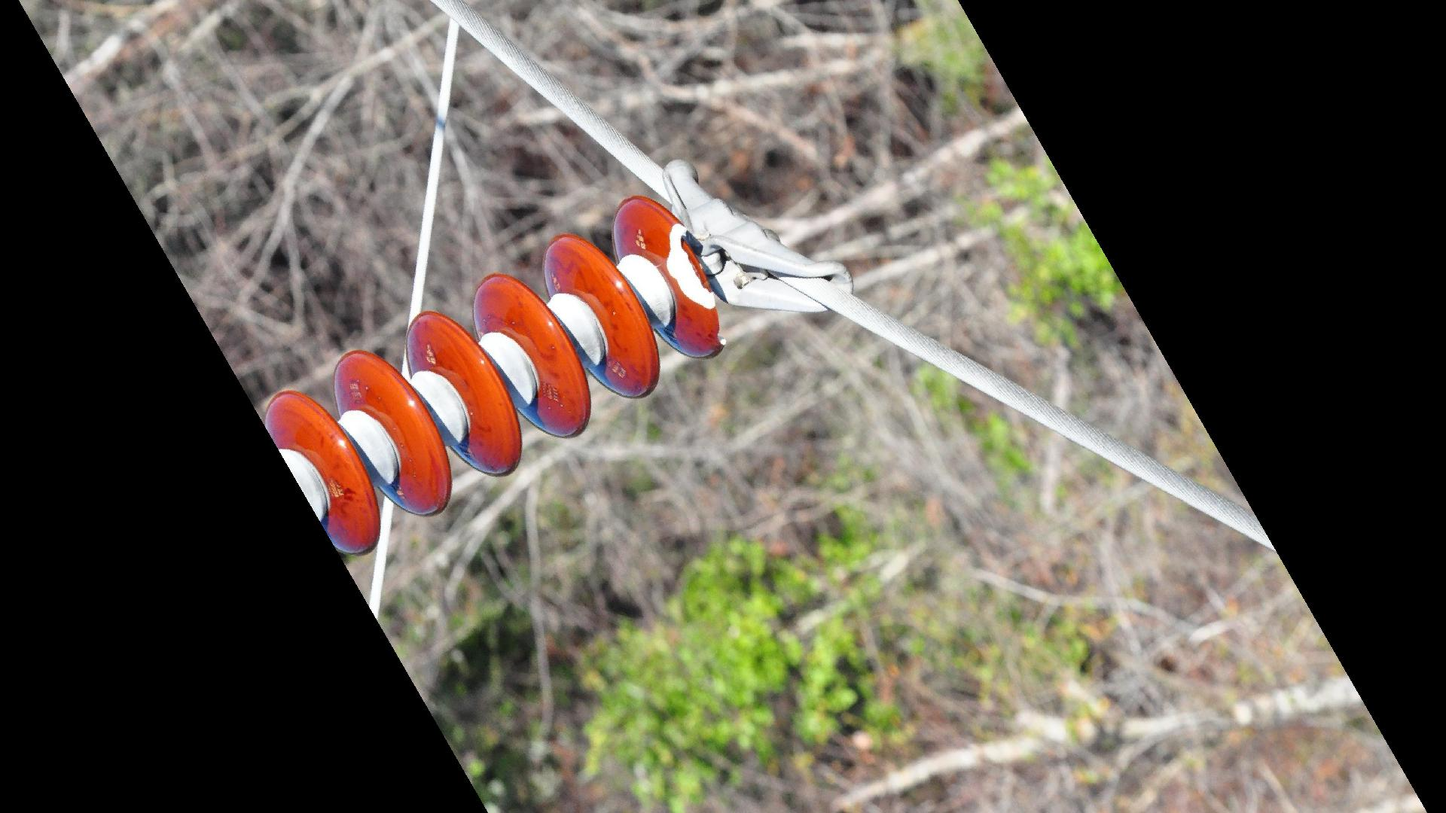insulator: (261, 190, 731, 561)
insulator_breakage: (653, 214, 737, 359)
